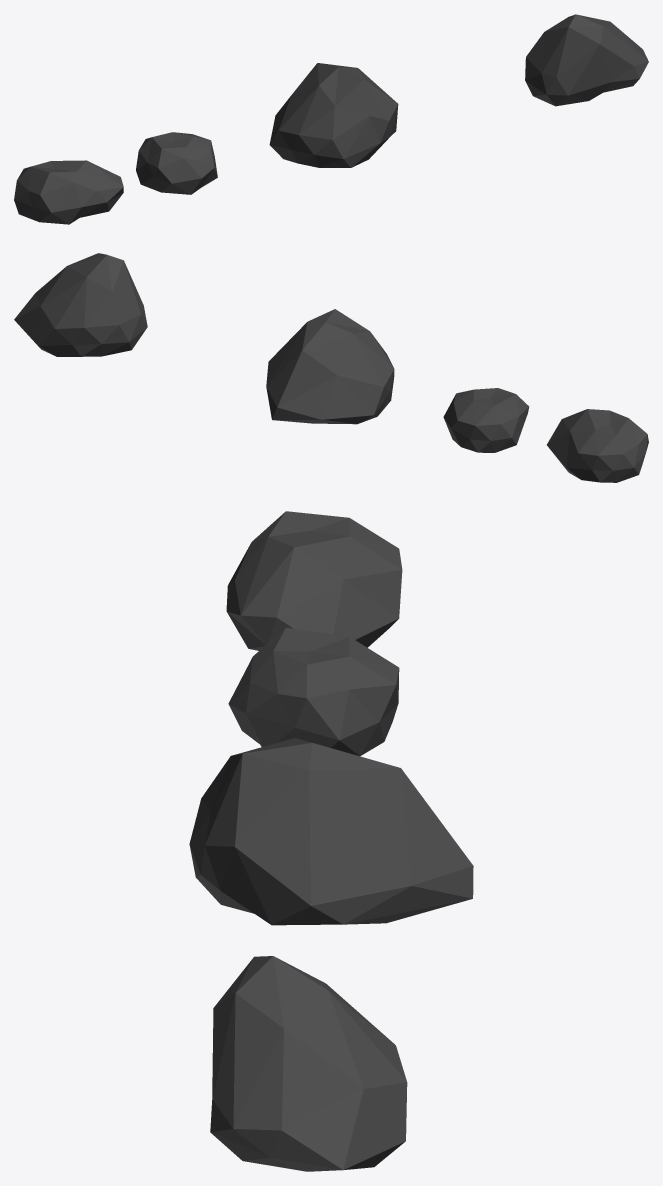
The model's file is RocksTiles.glb.
The picture shows the model from 3 angles, top to bottom: view 1: azimuth 30°, elevation 25°; view 2: azimuth 150°, elevation 25°; view 3: azimuth 270°, elevation 25°; orthographic projection. The views are drawn at different scales.
Visible parts, largest first — view 1: rock1-col, rock3-col, rock2-col, rock4-col; view 2: rock1-col, rock3-col, rock2-col, rock4-col; view 3: rock1-col, rock3-col, rock2-col, rock4-col.
Part boxes in pixels (x1,y1,x2,y2): rock1-col: [269, 63, 398, 167]; rock3-col: [525, 14, 648, 106]; rock2-col: [14, 160, 123, 224]; rock4-col: [136, 132, 217, 194]; rock1-col: [266, 309, 394, 424]; rock3-col: [14, 253, 147, 356]; rock2-col: [547, 409, 648, 482]; rock4-col: [443, 388, 529, 452]; rock1-col: [189, 738, 473, 925]; rock3-col: [210, 956, 407, 1171]; rock2-col: [226, 511, 402, 650]; rock4-col: [228, 627, 399, 756].
Size of the model in its own units: 18.02 by 2.4 by 3.58.
Materials: 1 (1 with a texture image).
